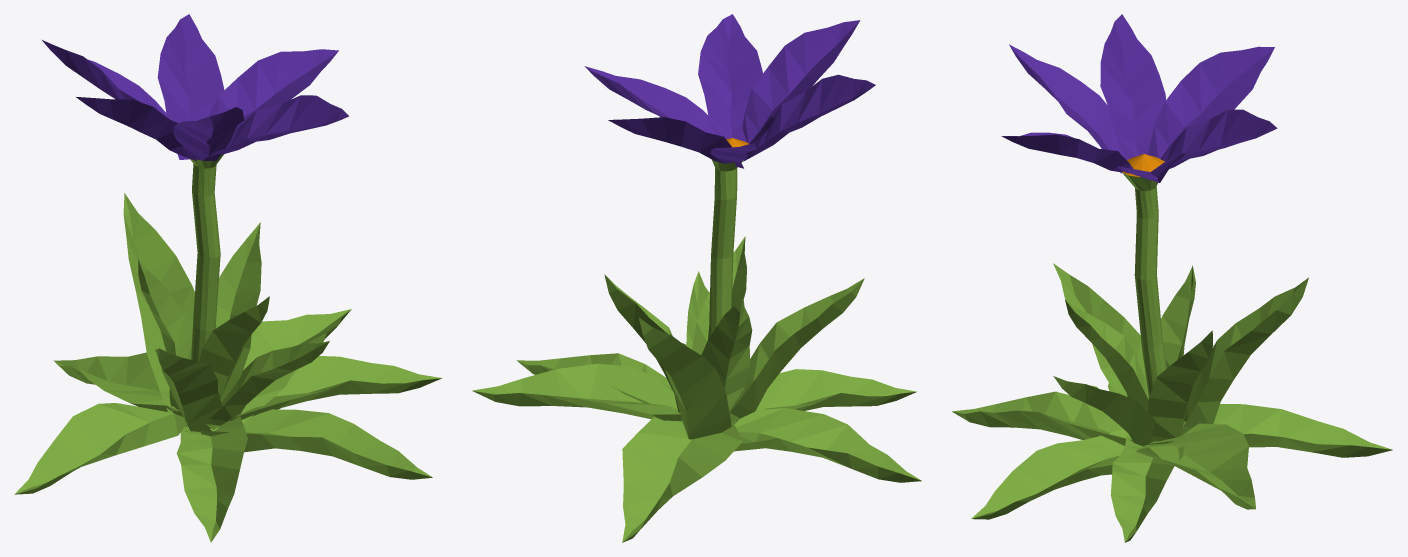
The model's file is modelDraco.gltf.
The picture shows the model from 3 angles, left to right: view 1: azimuth 30°, elevation 25°; view 2: azimuth 150°, elevation 25°; view 3: azimuth 270°, elevation 25°; orthographic projection. The views are drawn at different scales.
Visible parts, largest first — view 1: node_MeshObject111864576-PolyPaper9; view 2: node_MeshObject111864576-PolyPaper9; view 3: node_MeshObject111864576-PolyPaper9.
Part boxes in pixels (x1=…): node_MeshObject111864576-PolyPaper9: x1=14, y1=14, x2=442, y2=542; node_MeshObject111864576-PolyPaper9: x1=472, y1=14, x2=921, y2=542; node_MeshObject111864576-PolyPaper9: x1=952, y1=14, x2=1392, y2=542.
Size of the model in its own units: 1.7 by 1.56 by 1.6.
